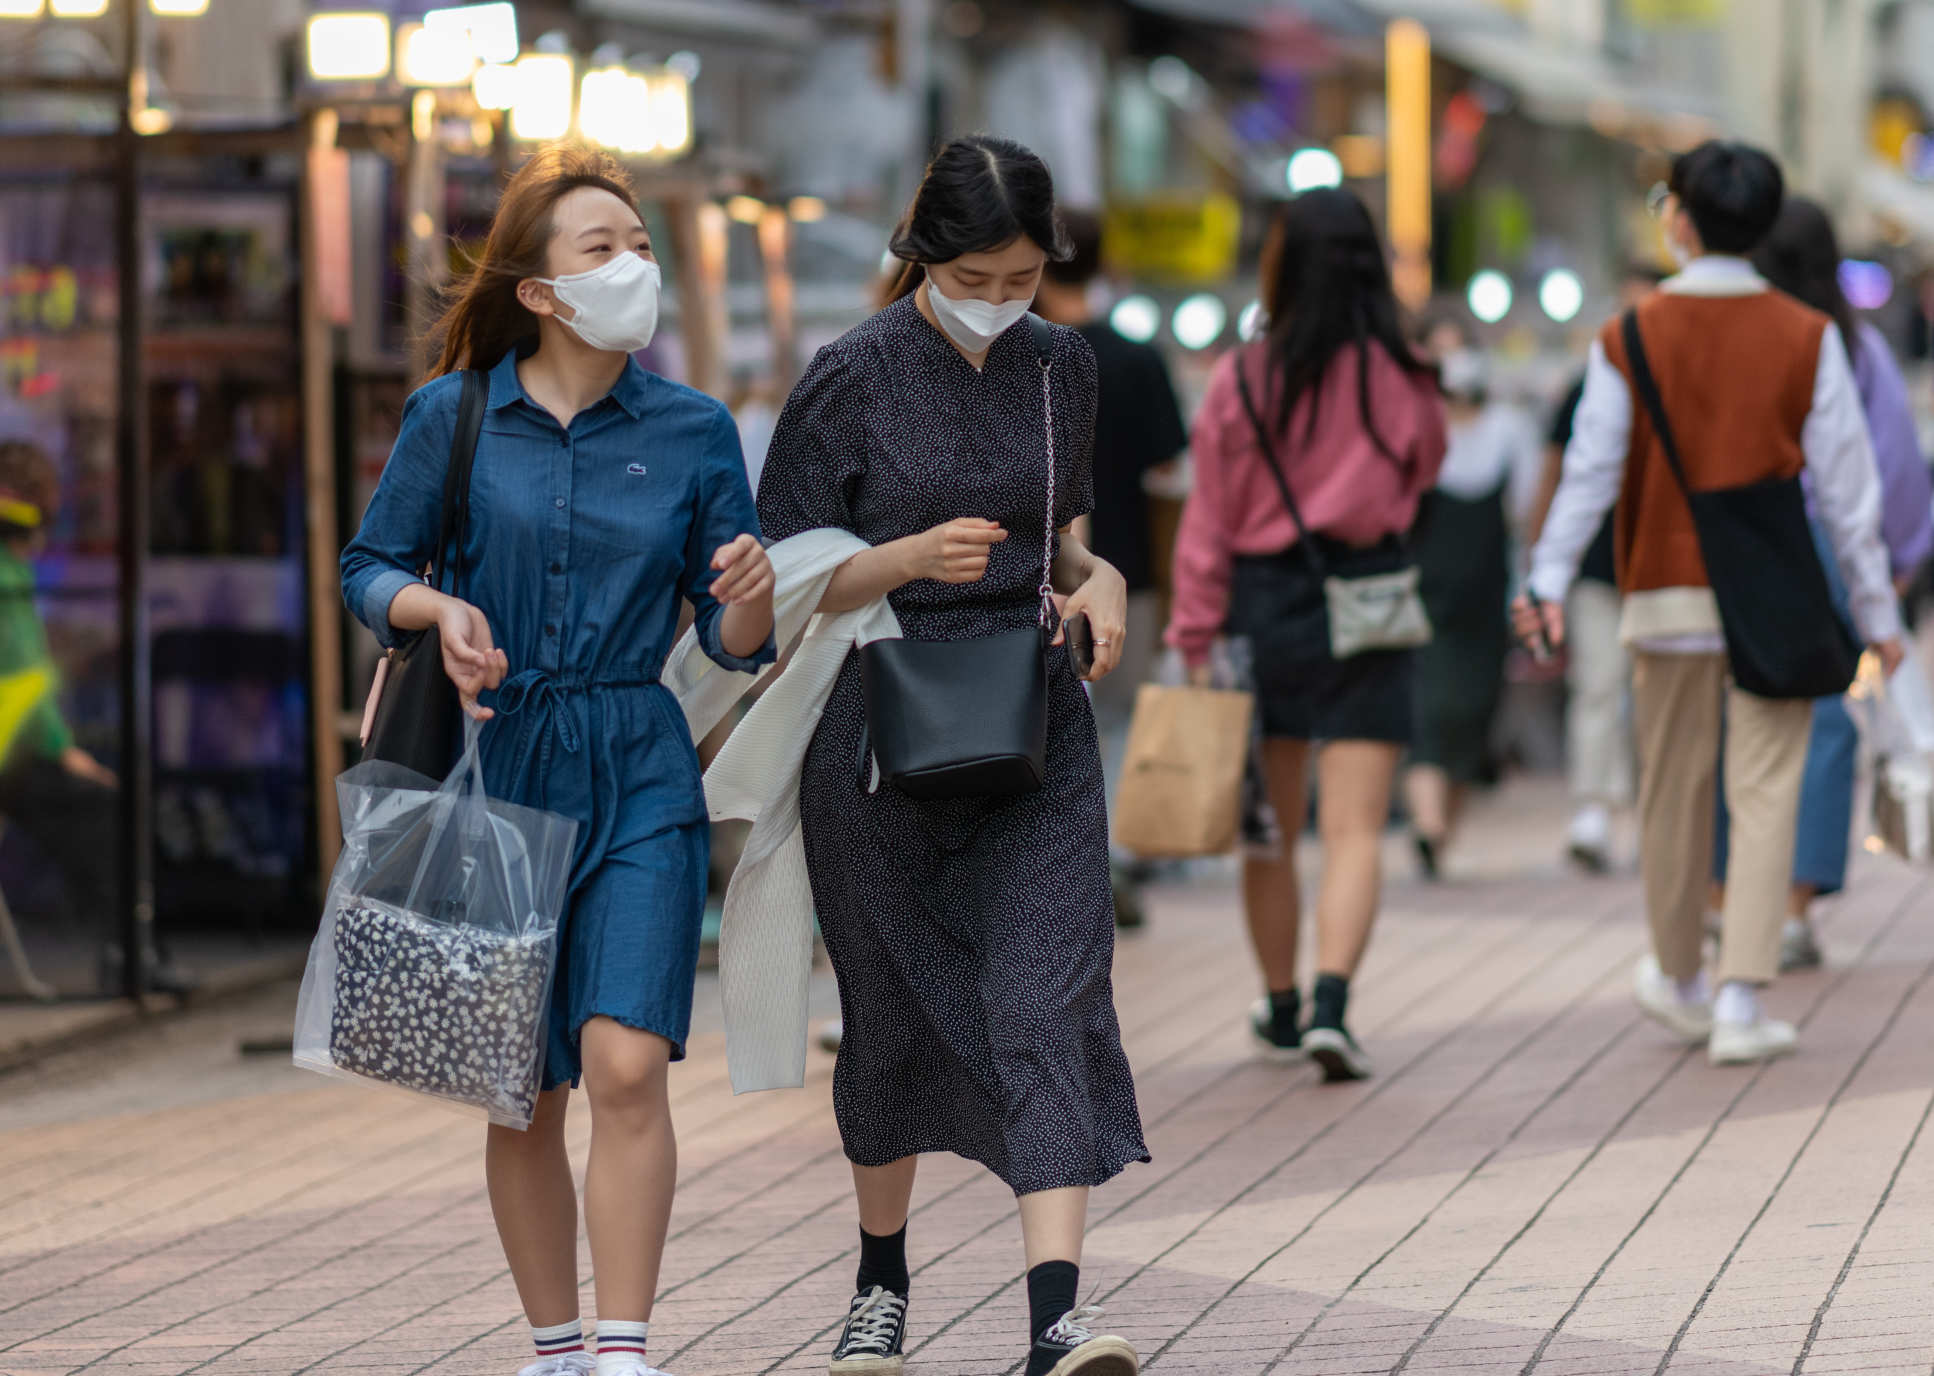with_mask: (551, 194, 664, 349), (923, 242, 1048, 344)
